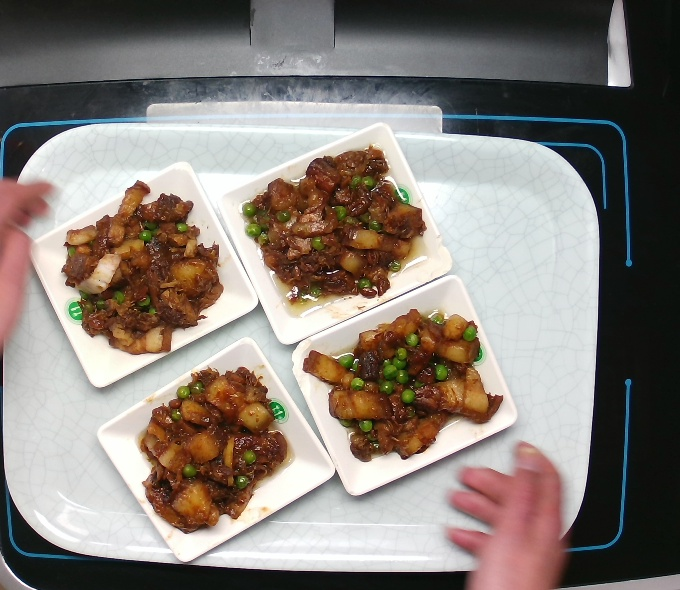wcq-JiangRou: (234, 139, 433, 320), (295, 301, 506, 467), (53, 176, 226, 359), (129, 360, 291, 538)
